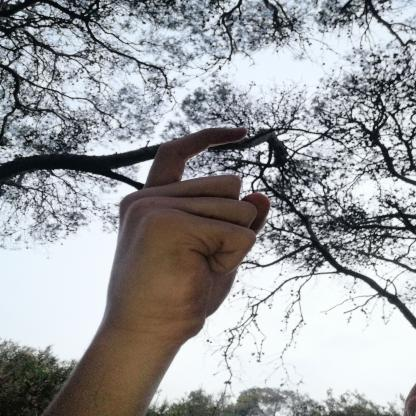RAA: (101, 116, 283, 348)
